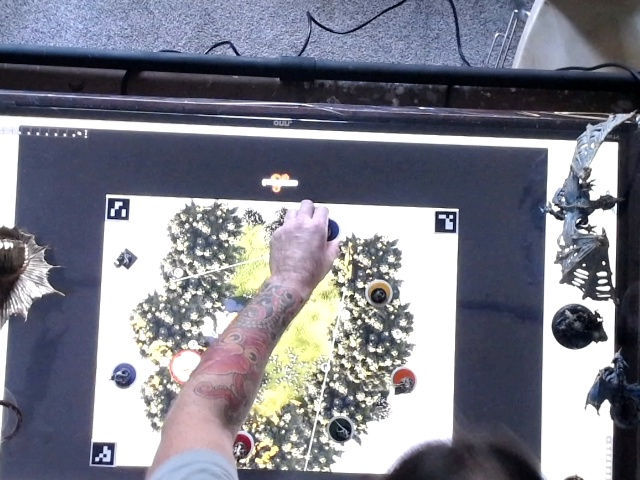blue: (312, 213, 345, 244)
green: (319, 411, 360, 444)
orange: (385, 360, 419, 395)
red: (221, 428, 260, 465)
violet: (107, 357, 141, 390)
yellow: (362, 275, 398, 307)
